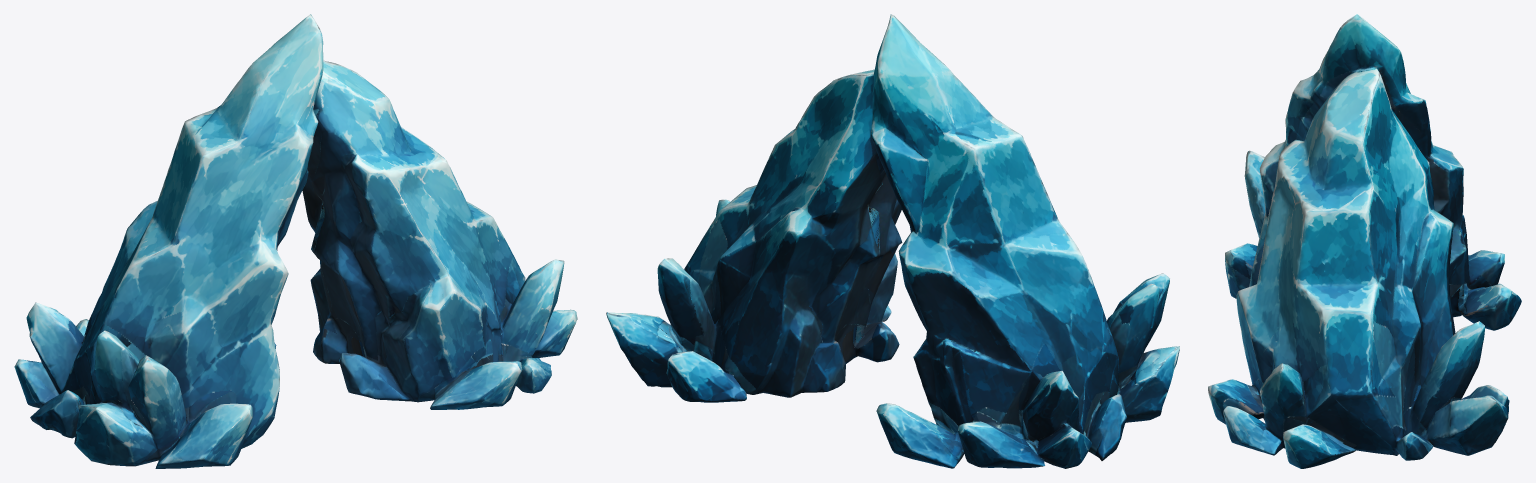
File: IceSpike_06.fbx
3 renders of one model, left to right at view 1: azimuth 30°, elevation 25°; view 2: azimuth 150°, elevation 25°; view 3: azimuth 270°, elevation 25°, orthographic. The views are drawn at different scales.
Visible parts, largest first — view 1: texture_mapping; view 2: texture_mapping; view 3: texture_mapping.
Boxes of the visible parts, box(x1,y1,x2,y2) form: texture_mapping: box(14, 14, 577, 468); texture_mapping: box(606, 14, 1179, 468); texture_mapping: box(1208, 14, 1521, 468).
Size of the model in its own units: 0.9993 by 0.5824 by 0.7294.
1 material, 1 textured.
